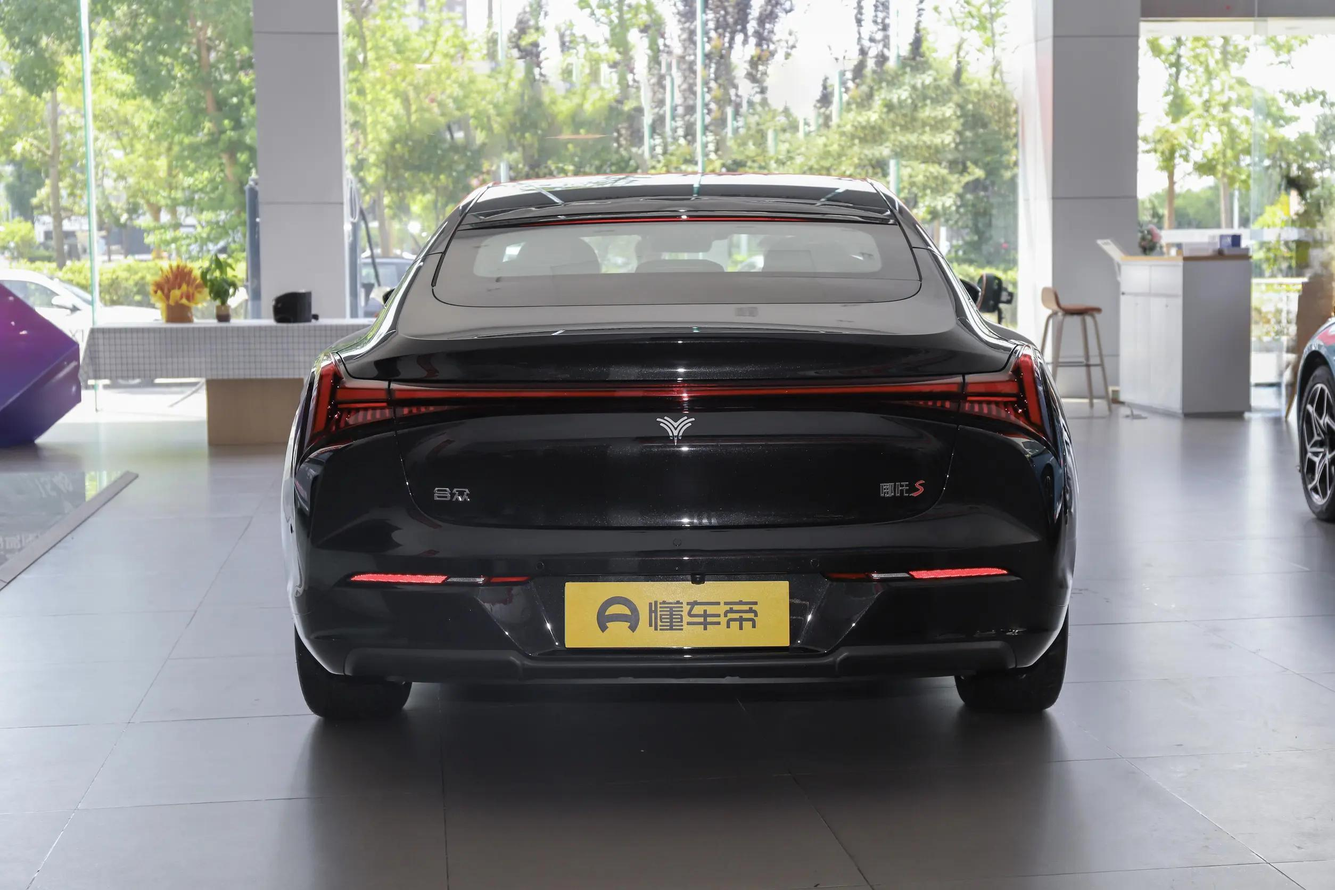NETA: (655, 415, 696, 448)
